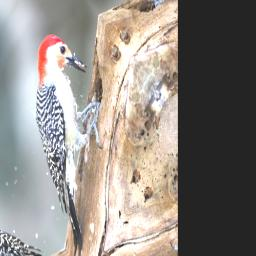Woodpecker: (0, 22, 144, 256)
